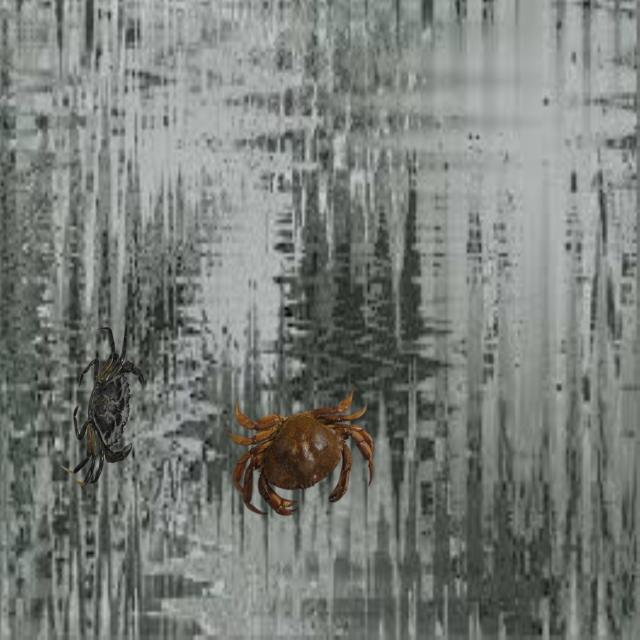European_Green_Crab: (64, 320, 150, 498)
